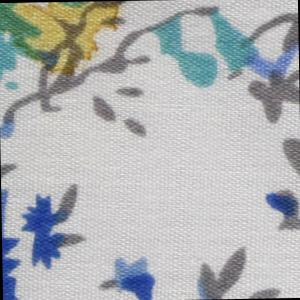Oil Stain: (1, 1, 128, 81)
